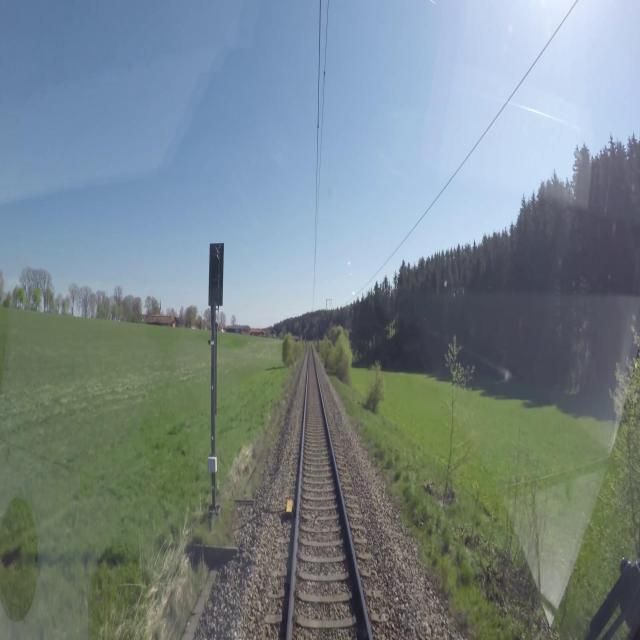rail-track: (291, 353, 368, 639)
